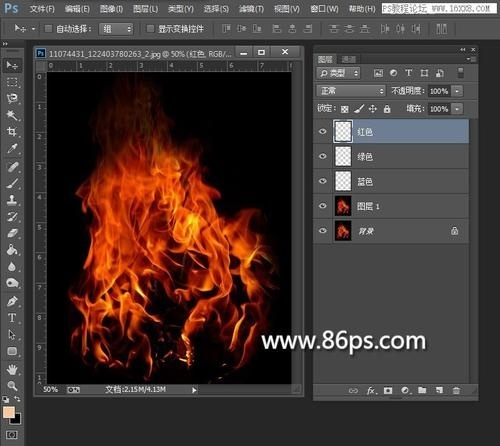fire: (69, 130, 272, 370)
